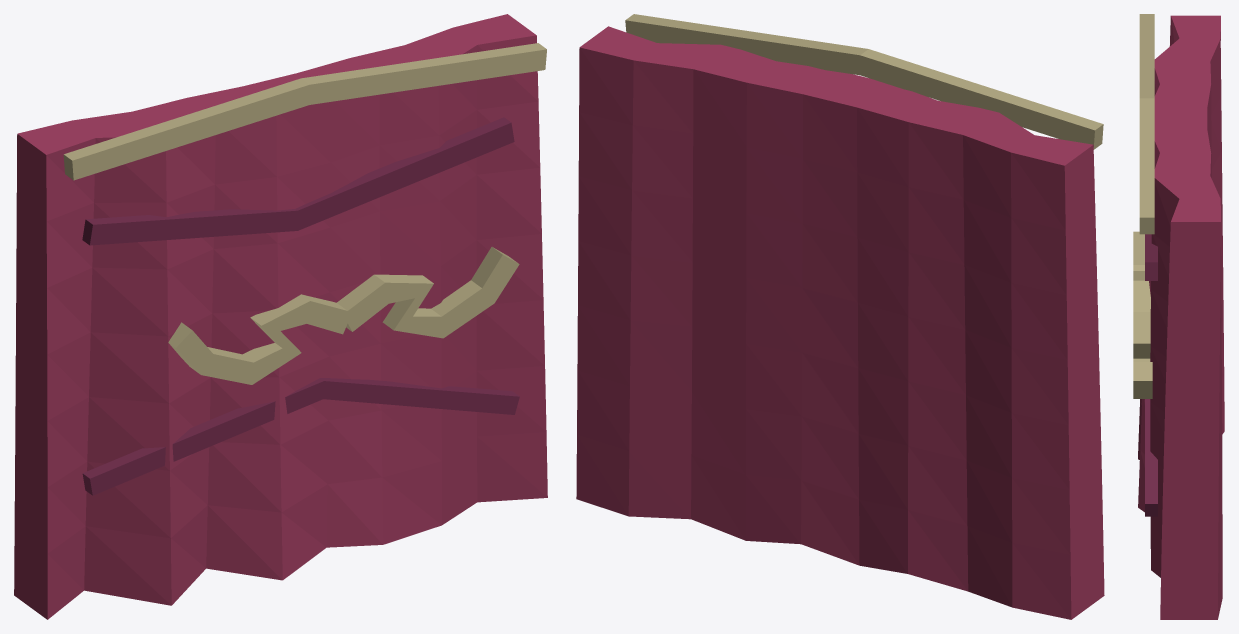
The model's file is cloud_war_banner.obj.
3 views of the same model, side by side, from view 1: azimuth 30°, elevation 25°; view 2: azimuth 150°, elevation 25°; view 3: azimuth 270°, elevation 25° (orthographic). The views are drawn at different scales.
Parts seen in each view (by area): view 1: war_banner, war_banner_edge, banner_top_trim, banner_fold_upper, banner_fold_lower, banner_cloud_left, banner_cloud_right, banner_top_trim_edge, banner_cloud_right_edge, banner_fold_upper_edge, banner_fold_lower_edge, banner_cloud_left_edge; view 2: war_banner_back, war_banner_edge, banner_top_trim, banner_top_trim_edge; view 3: war_banner_edge, war_banner, war_banner_back, banner_top_trim_edge, banner_cloud_right_edge, banner_fold_lower_edge, banner_cloud_left_edge, banner_fold_upper_edge.
Boxes of the visible parts, left/top/right/bottom form: war_banner: left=46, top=35, right=547, bottom=619; war_banner_edge: left=14, top=14, right=536, bottom=619; banner_top_trim: left=72, top=49, right=546, bottom=180; banner_fold_upper: left=90, top=122, right=514, bottom=245; banner_fold_lower: left=90, top=381, right=519, bottom=495; banner_cloud_left: left=176, top=301, right=352, bottom=384; banner_cloud_right: left=348, top=255, right=519, bottom=338; banner_top_trim_edge: left=63, top=43, right=546, bottom=180; banner_cloud_right_edge: left=337, top=247, right=517, bottom=331; banner_fold_upper_edge: left=82, top=117, right=510, bottom=245; banner_fold_lower_edge: left=82, top=378, right=519, bottom=495; banner_cloud_left_edge: left=168, top=294, right=346, bottom=373; war_banner_back: left=576, top=47, right=1071, bottom=619; war_banner_edge: left=580, top=26, right=1104, bottom=619; banner_top_trim: left=625, top=20, right=1094, bottom=146; banner_top_trim_edge: left=625, top=14, right=1103, bottom=149; war_banner_edge: left=1154, top=15, right=1220, bottom=619; war_banner: left=1138, top=16, right=1179, bottom=577; war_banner_back: left=1207, top=32, right=1224, bottom=618; banner_top_trim_edge: left=1139, top=14, right=1154, bottom=234; banner_cloud_right_edge: left=1133, top=312, right=1152, bottom=398; banner_fold_lower_edge: left=1145, top=399, right=1157, bottom=516; banner_cloud_left_edge: left=1133, top=231, right=1150, bottom=311; banner_fold_upper_edge: left=1145, top=234, right=1157, bottom=280.
Bounding box in the file's own units: 1.16 × 1.08 × 0.2137.
